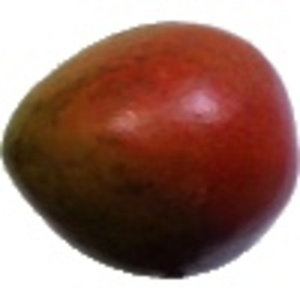manga: (1, 21, 300, 279)
